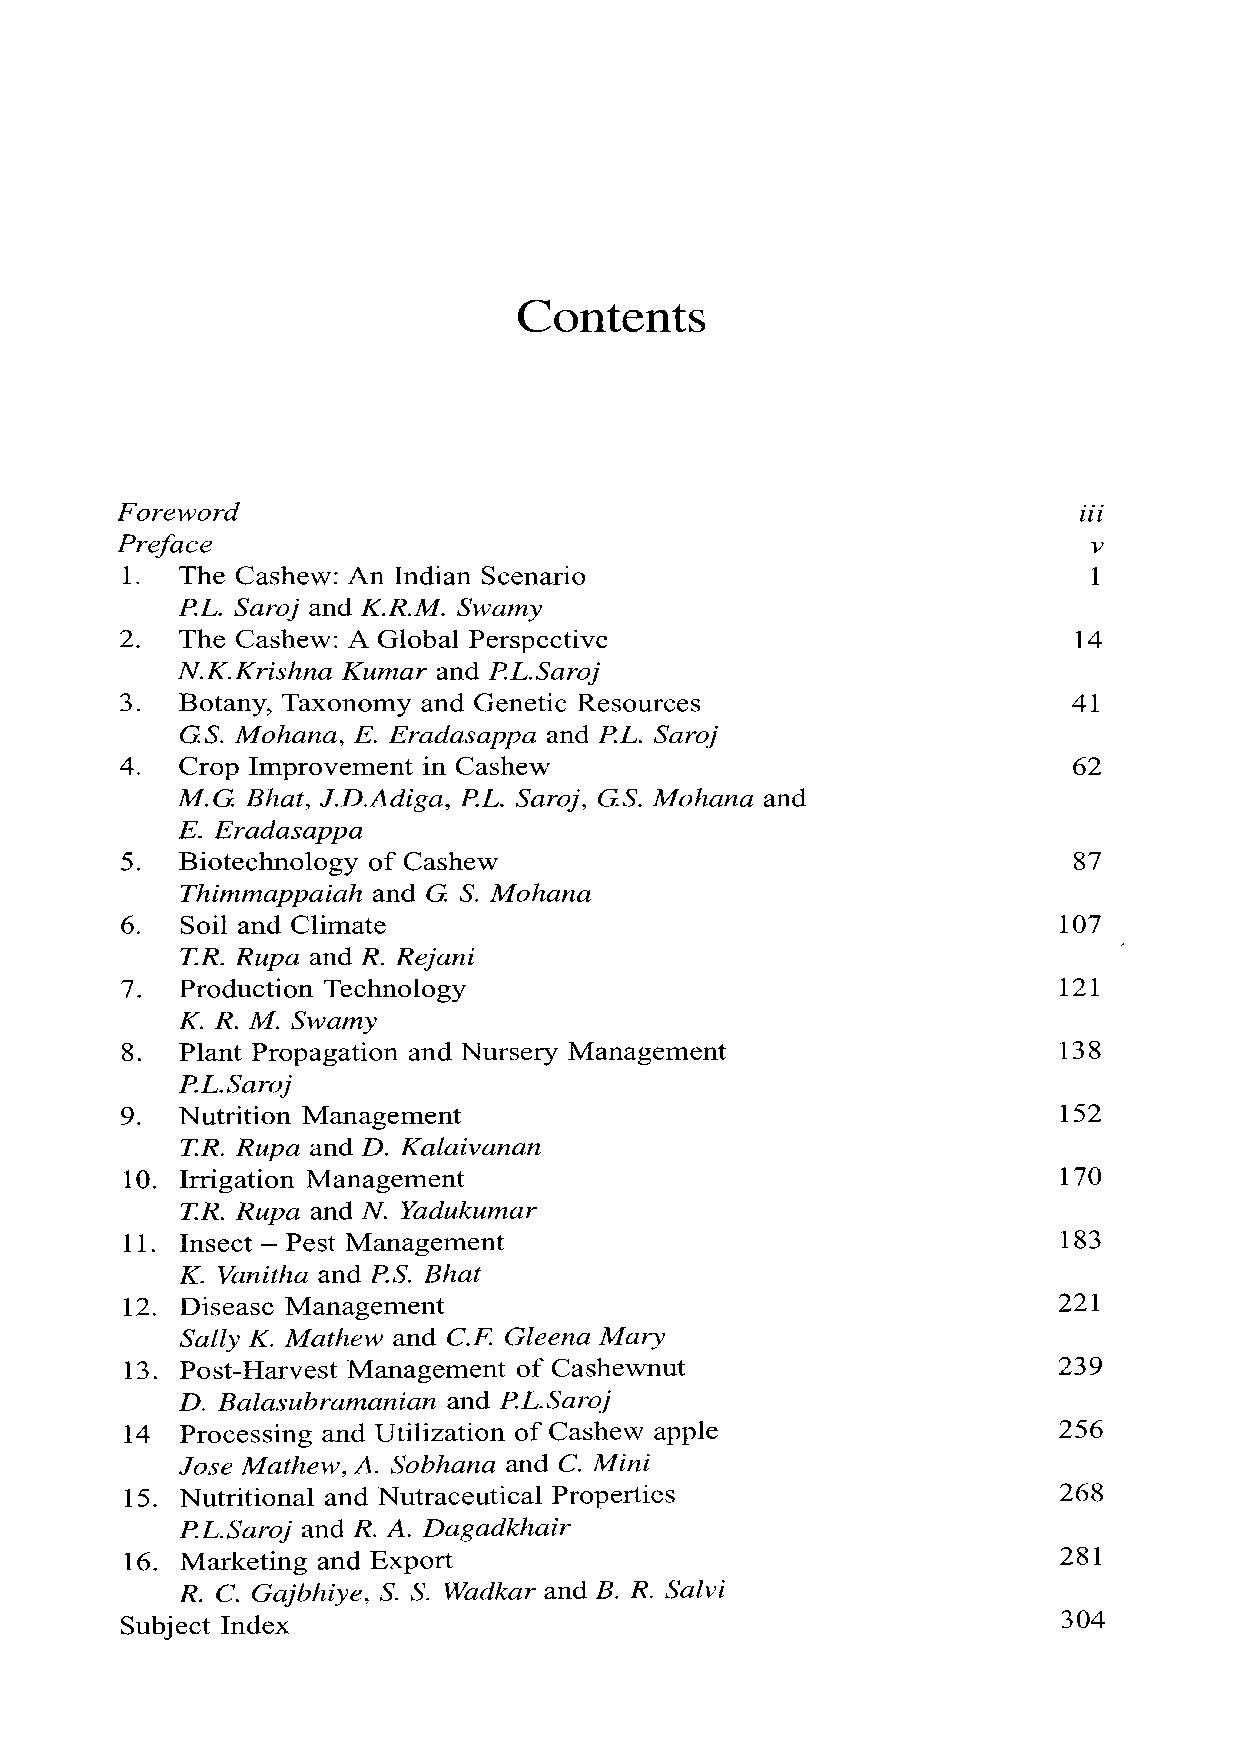TOC_chapter: (115, 752, 807, 843), (117, 1037, 727, 1098), (117, 690, 723, 749), (122, 1549, 730, 1606), (123, 1355, 684, 1413), (123, 1420, 721, 1474), (123, 1483, 676, 1541), (119, 1291, 670, 1349), (115, 625, 611, 686), (118, 562, 596, 620), (118, 849, 596, 906), (122, 1164, 538, 1227), (115, 1104, 546, 1159), (122, 1227, 505, 1286), (115, 913, 476, 969), (115, 976, 467, 1033), (115, 1614, 301, 1640), (115, 497, 243, 523), (115, 533, 216, 557)
TOC_pagenumber: (1057, 1604, 1110, 1635), (1053, 1098, 1107, 1126), (1057, 1410, 1104, 1443), (1055, 1539, 1106, 1567), (1057, 1036, 1104, 1066), (1057, 1350, 1102, 1378), (1055, 1291, 1104, 1315), (1056, 1480, 1108, 1503), (1053, 973, 1102, 997), (1057, 910, 1100, 937), (1060, 1224, 1102, 1249), (1070, 625, 1106, 654), (1057, 1165, 1104, 1186), (1070, 845, 1104, 874), (1066, 690, 1102, 717), (1064, 754, 1104, 777), (1075, 499, 1104, 525), (1087, 534, 1107, 557), (1084, 565, 1104, 586)
chapter: (514, 291, 710, 334)
